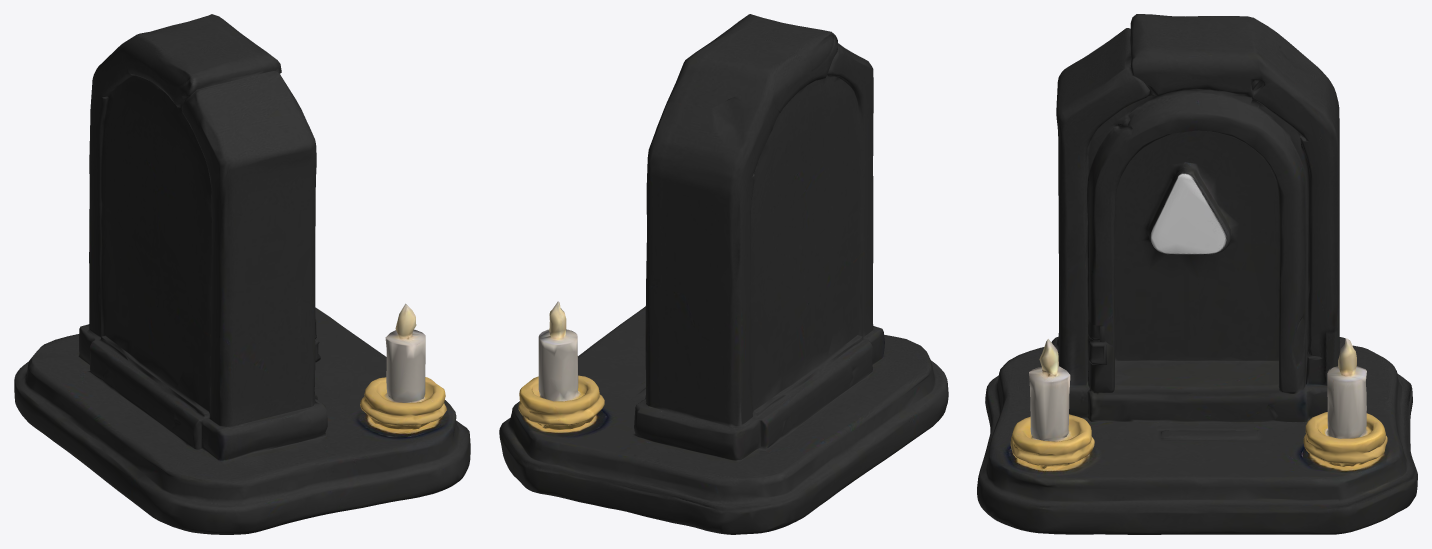
Rendered from cult_of_one.glb.
The picture shows the model from 3 angles, left to right: view 1: azimuth 30°, elevation 25°; view 2: azimuth 150°, elevation 25°; view 3: azimuth 270°, elevation 25°; orthographic projection.
Parts seen in each view (by area): view 1: tripo_node_8925866a-8926-4ea9-9a1d-47d1a9e20ed2; view 2: tripo_node_8925866a-8926-4ea9-9a1d-47d1a9e20ed2; view 3: tripo_node_8925866a-8926-4ea9-9a1d-47d1a9e20ed2.
Part boxes in pixels (x1,y1,x2,y2): tripo_node_8925866a-8926-4ea9-9a1d-47d1a9e20ed2: (14,14,470,534); tripo_node_8925866a-8926-4ea9-9a1d-47d1a9e20ed2: (499,14,948,534); tripo_node_8925866a-8926-4ea9-9a1d-47d1a9e20ed2: (977,14,1417,534).
Bounding box in the file's own units: 0.7752 × 0.9805 × 0.9572.
Materials: 1 (1 with a texture image).
